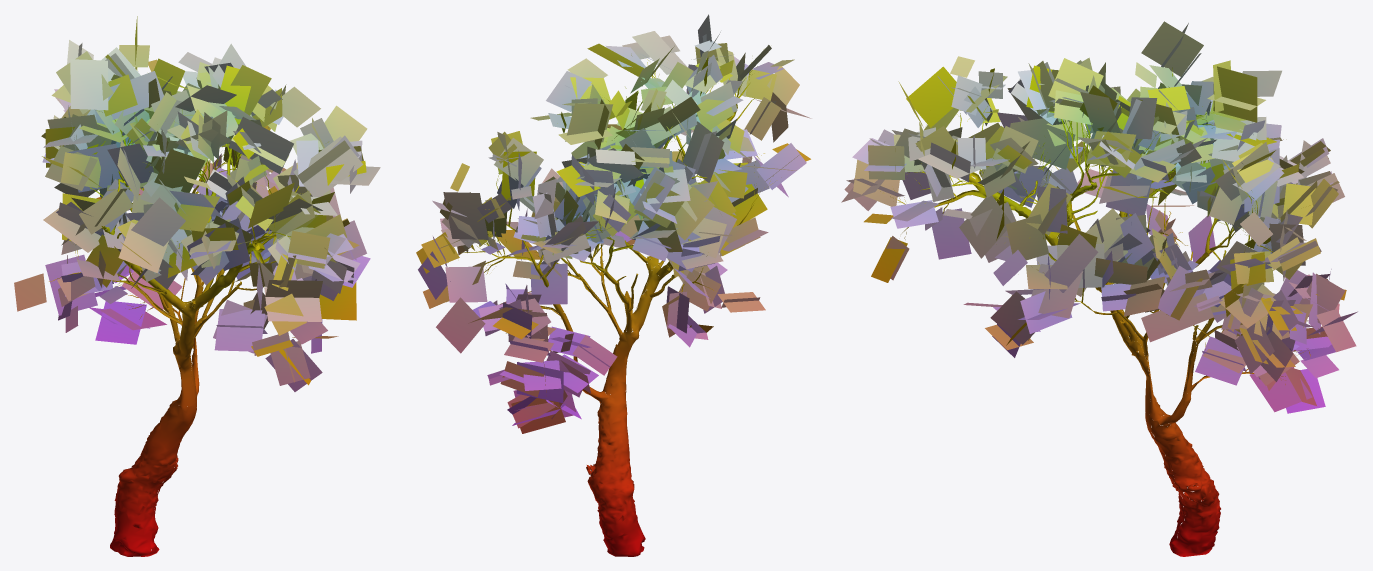
File: broadleaf.glb
The picture shows the model from 3 angles, left to right: view 1: azimuth 30°, elevation 25°; view 2: azimuth 150°, elevation 25°; view 3: azimuth 270°, elevation 25°; orthographic projection. The views are drawn at different scales.
Visible parts, largest first — view 1: cards_lod0, trunk_lod0, branches_lod0; view 2: cards_lod0, trunk_lod0, branches_lod0; view 3: cards_lod0, trunk_lod0, branches_lod0.
Part boxes in pixels (left/top/right/bottom): cards_lod0: left=14, top=16, right=380, bottom=391; trunk_lod0: left=101, top=169, right=273, bottom=556; branches_lod0: left=49, top=67, right=328, bottom=346; cards_lod0: left=416, top=14, right=811, bottom=433; trunk_lod0: left=522, top=135, right=707, bottom=556; branches_lod0: left=448, top=49, right=772, bottom=351; cards_lod0: left=841, top=21, right=1357, bottom=413; trunk_lod0: left=969, top=170, right=1228, bottom=556; branches_lod0: left=880, top=67, right=1318, bottom=391.
Size of what is drawn, in the model's own units: 5.24 by 7.94 by 7.42.
